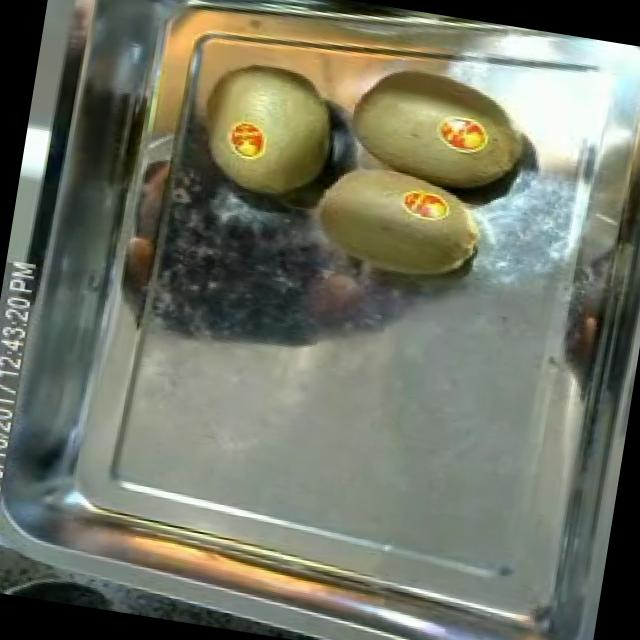Fruit: (297, 150, 498, 302), (203, 48, 355, 220)
